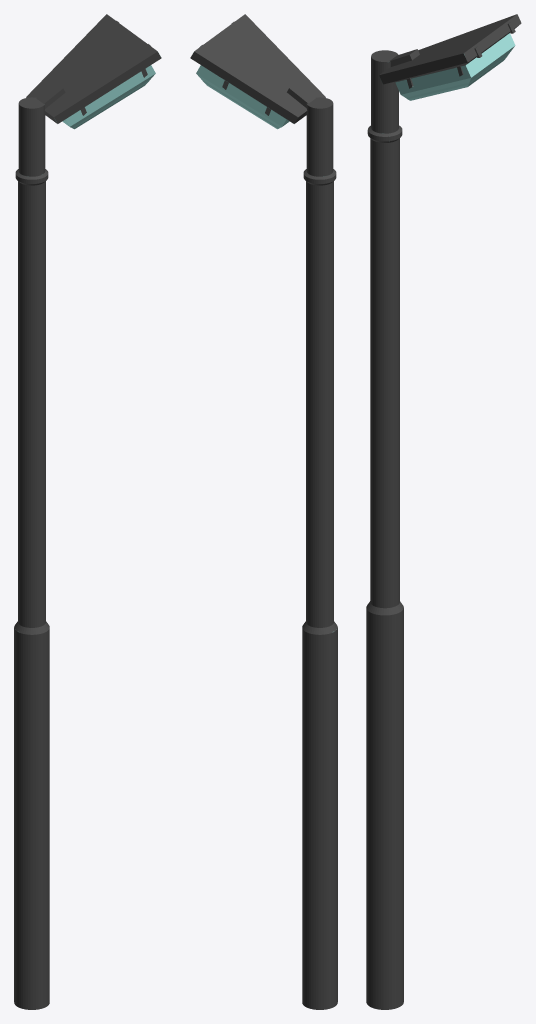
File: PosteLuzAlto.fbx
3 views of the same model, side by side, from view 1: azimuth 30°, elevation 25°; view 2: azimuth 150°, elevation 25°; view 3: azimuth 330°, elevation 25° (orthographic). The views are drawn at different scales.
Visible parts, largest first — view 1: PosteLuzAlto; view 2: PosteLuzAlto; view 3: PosteLuzAlto.
Boxes of the visible parts, left/top/right/bottom form: PosteLuzAlto: left=14, top=14, right=161, bottom=1009; PosteLuzAlto: left=190, top=14, right=337, bottom=1009; PosteLuzAlto: left=366, top=14, right=521, bottom=1009.
Bounding box in the file's own units: 41.54 × 307 × 30.13.
